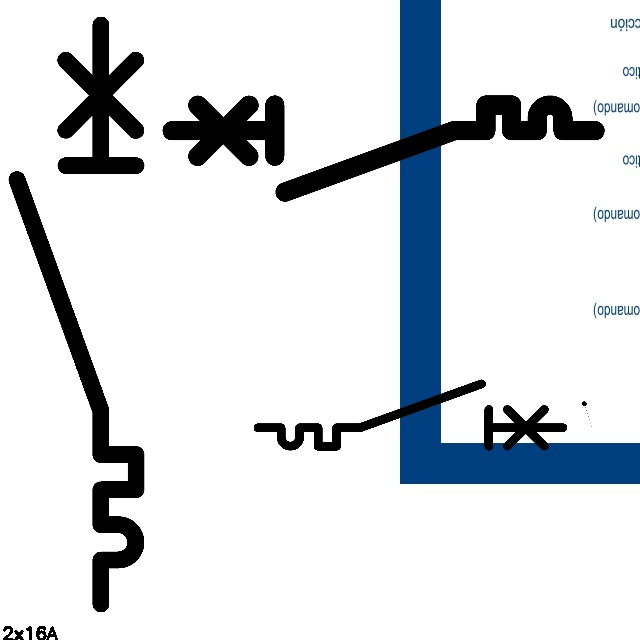interruptor_termomagnetico: (2, 10, 151, 619), (161, 94, 606, 203), (250, 376, 571, 454)
